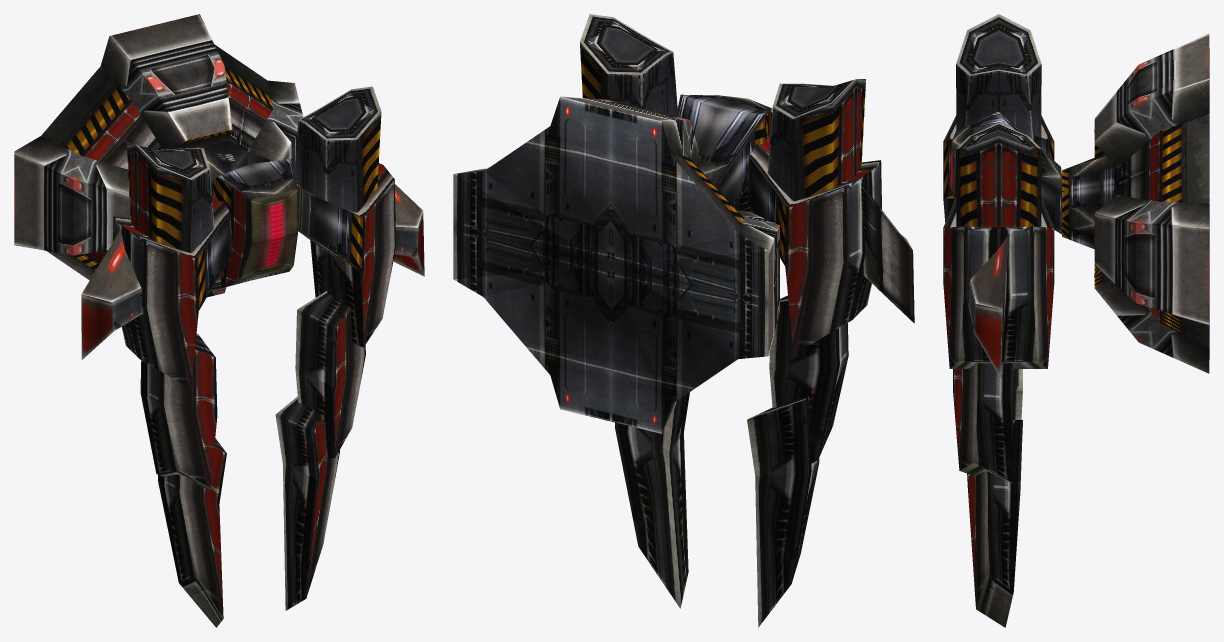
Rendered from turret-08.obj.
3 renders of one model, left to right at view 1: azimuth 30°, elevation 25°; view 2: azimuth 150°, elevation 25°; view 3: azimuth 270°, elevation 25°, orthographic. The views are drawn at different scales.
Parts seen in each view (by area): view 1: gun_02, gun_01, body, head; view 2: body, gun_02, gun_01, head; view 3: gun_01, body, gun_02, head.
Boxes of the visible parts, x1,y1,x2,y2 form: gun_02: (81, 144, 231, 627); gun_01: (275, 86, 424, 610); body: (14, 14, 303, 297); head: (197, 147, 298, 287); body: (453, 96, 779, 433); gun_02: (747, 79, 914, 627); gun_01: (580, 14, 689, 608); head: (676, 94, 771, 213); gun_01: (943, 123, 1054, 627); body: (1094, 33, 1209, 373); gun_02: (943, 14, 1054, 419); head: (950, 111, 1115, 249).
Bounding box in the file's own units: 5.47 × 7.99 × 3.48.
Materials: 1 (1 with a texture image).
